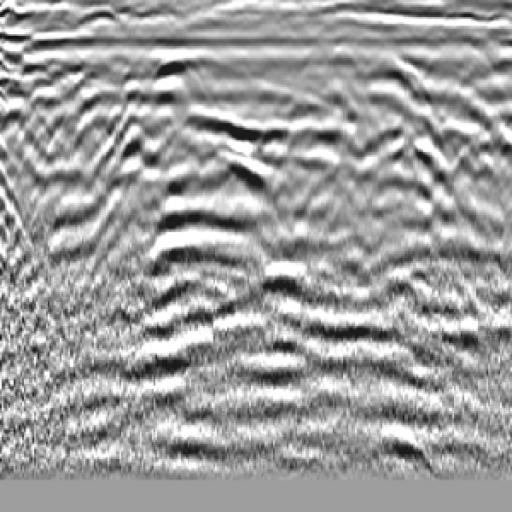metalic: (126, 32, 238, 167)
